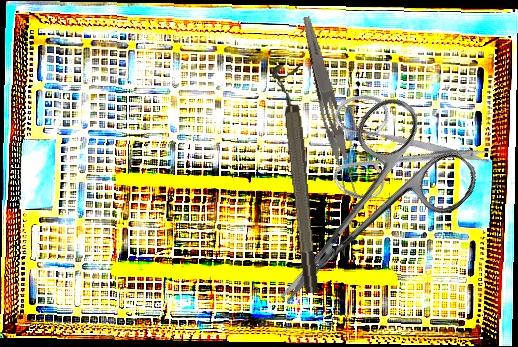Dressing Forceps: (294, 15, 361, 197)
Fixation Ring: (271, 63, 323, 295)
Iris Scissors: (233, 87, 486, 343), (299, 46, 500, 243)
